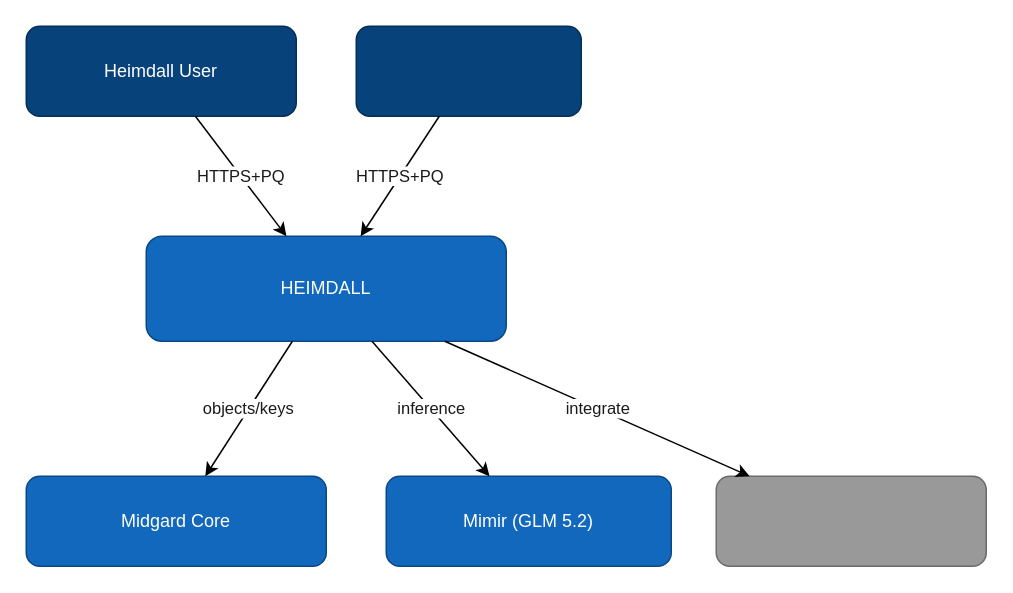
Some shapes in this 1013 by 593 pixel diagram are drawn without their labels. Here are the shapes that lost their labels. From the top down, the box of each, then its label:
(355, 25, 581, 116): Admin
(715, 475, 986, 566): External systems
